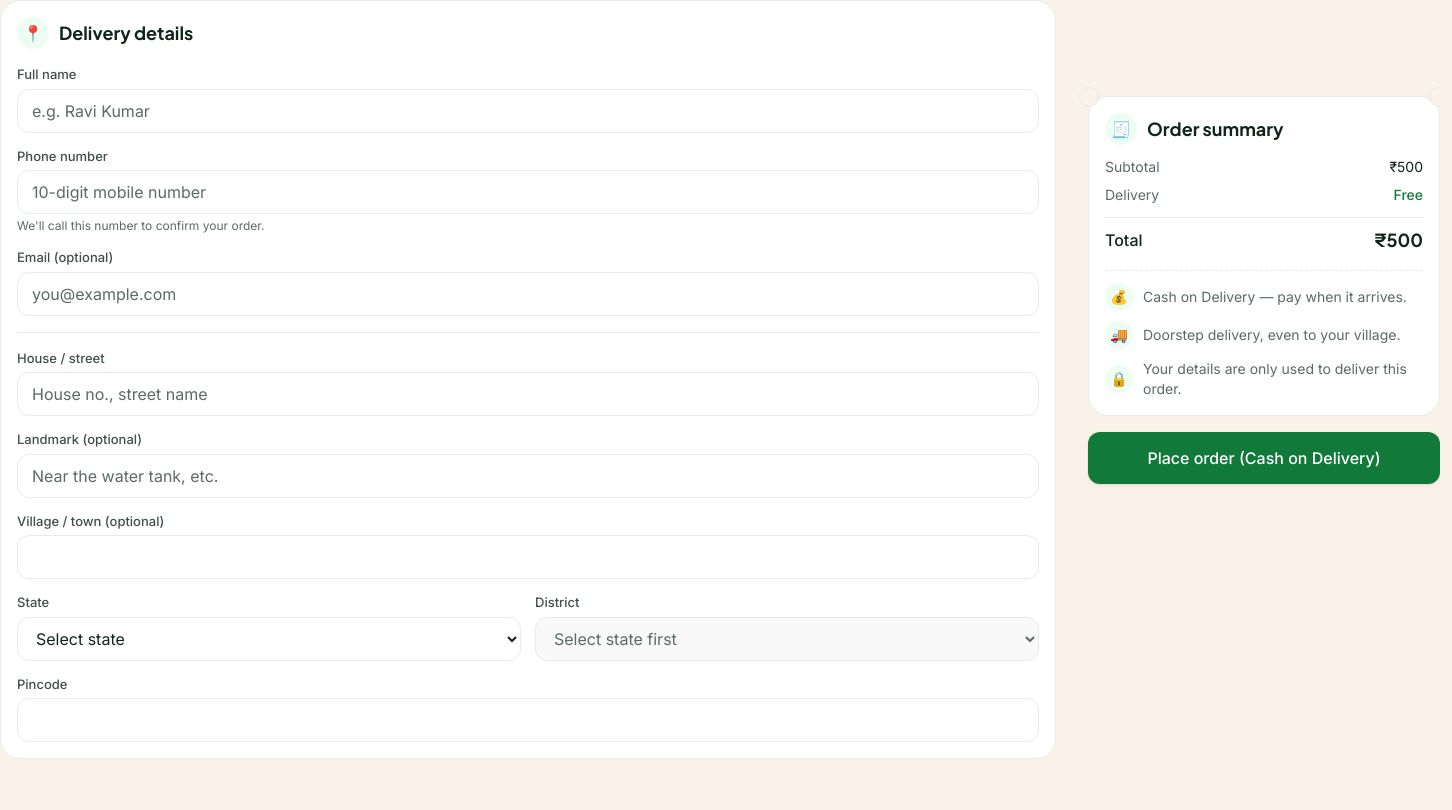
it: CheckoutForm › flags Phone number left empty on blur
Click the field labelled "Phone number": [528, 192] box 17,170 -> 1039,214
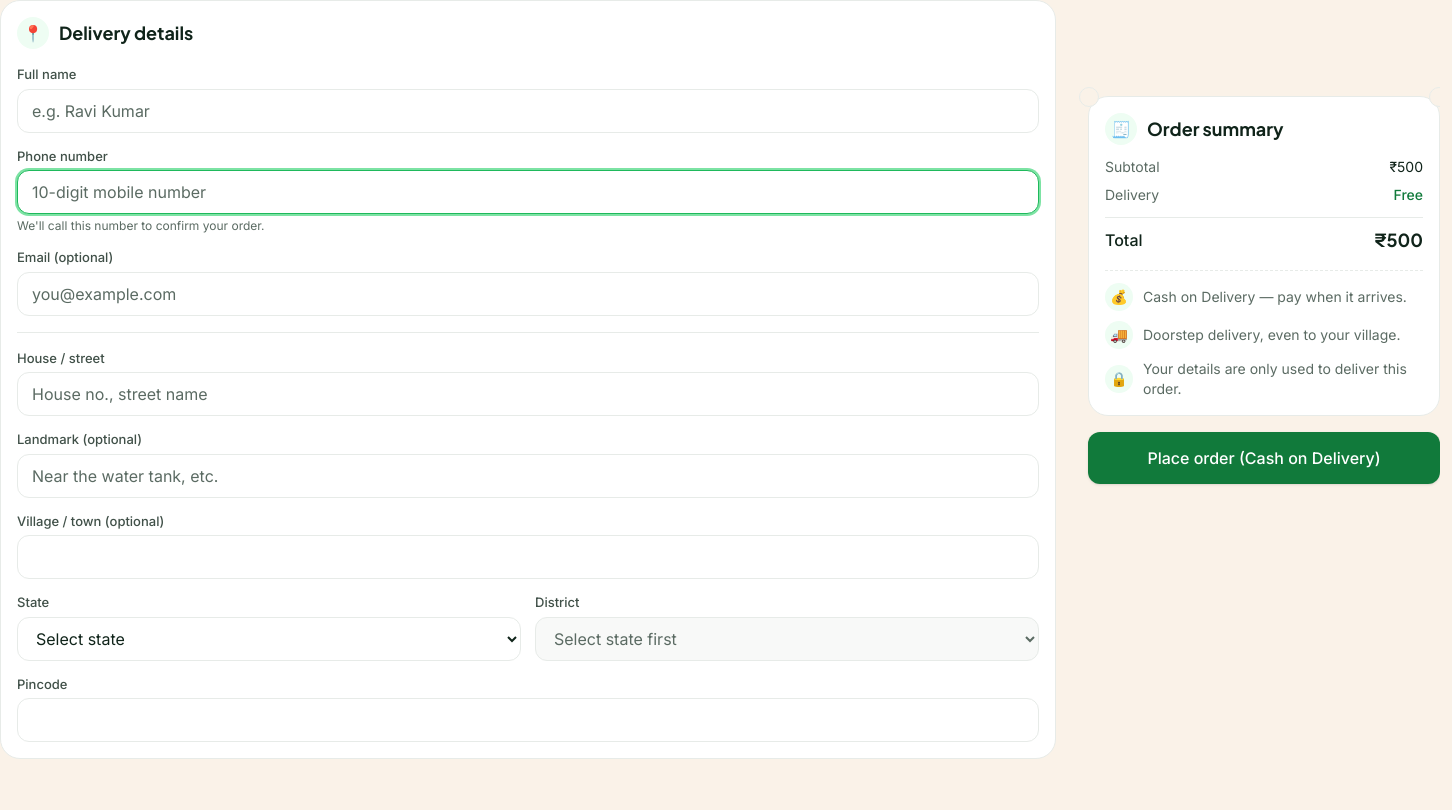
Press Tab
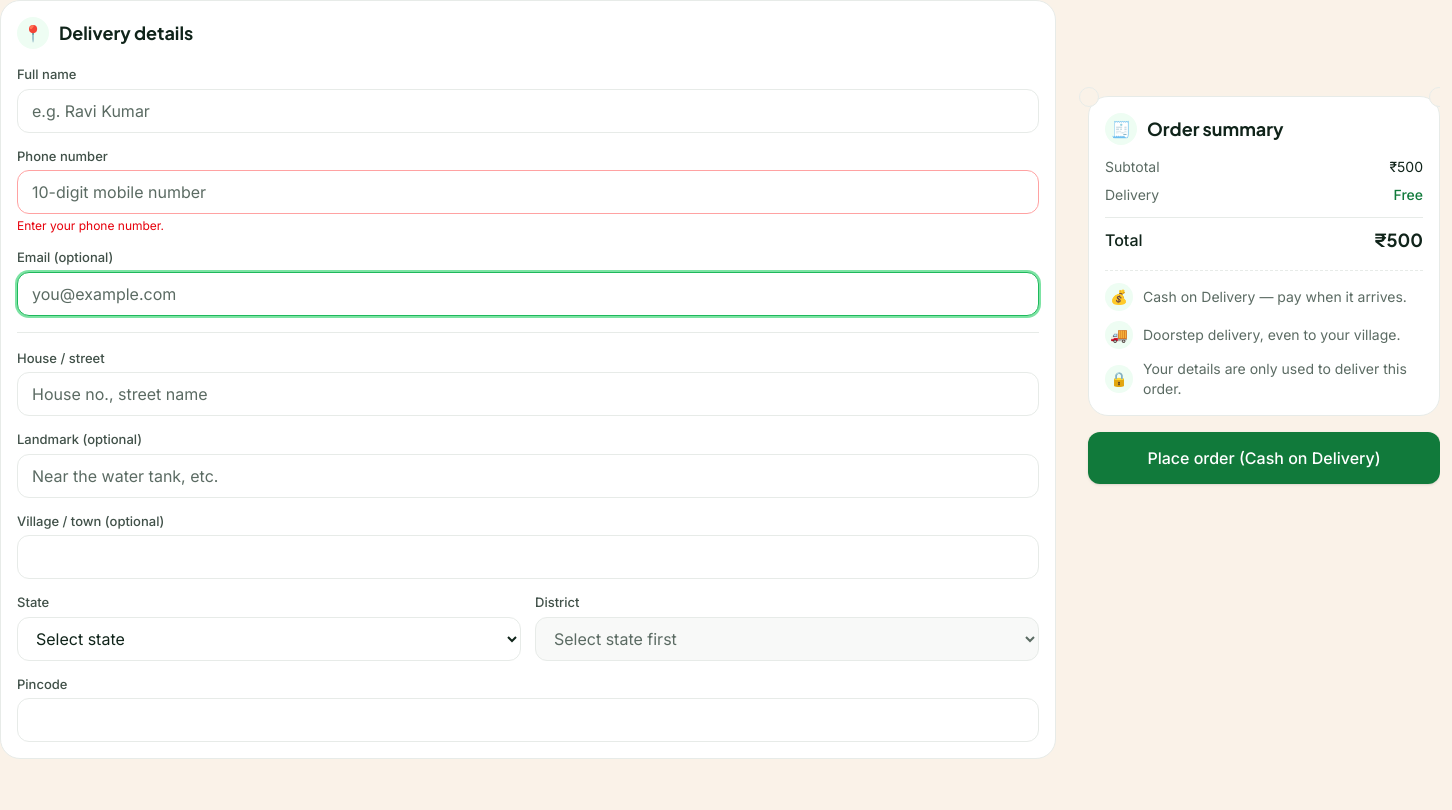
Expected: the text "Enter your phone number." is shown, 17,218 -> 164,233
